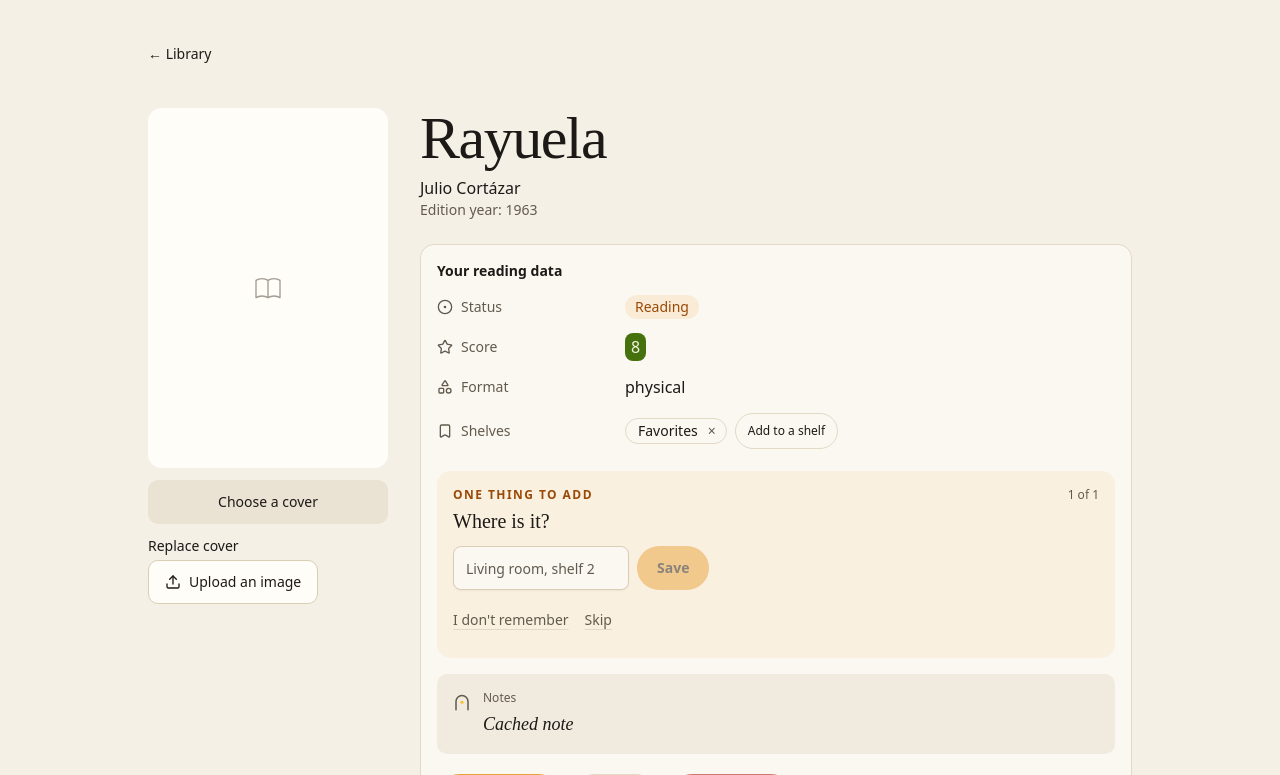
Scenario: DetailPage › explains an empty chooser instead of showing an empty grid
Expected: the heading "Rayuela" is shown, x1=420 y1=105 x2=606 y2=171
Click the button "Choose a cover": (268, 502) x1=148 y1=480 x2=388 y2=524
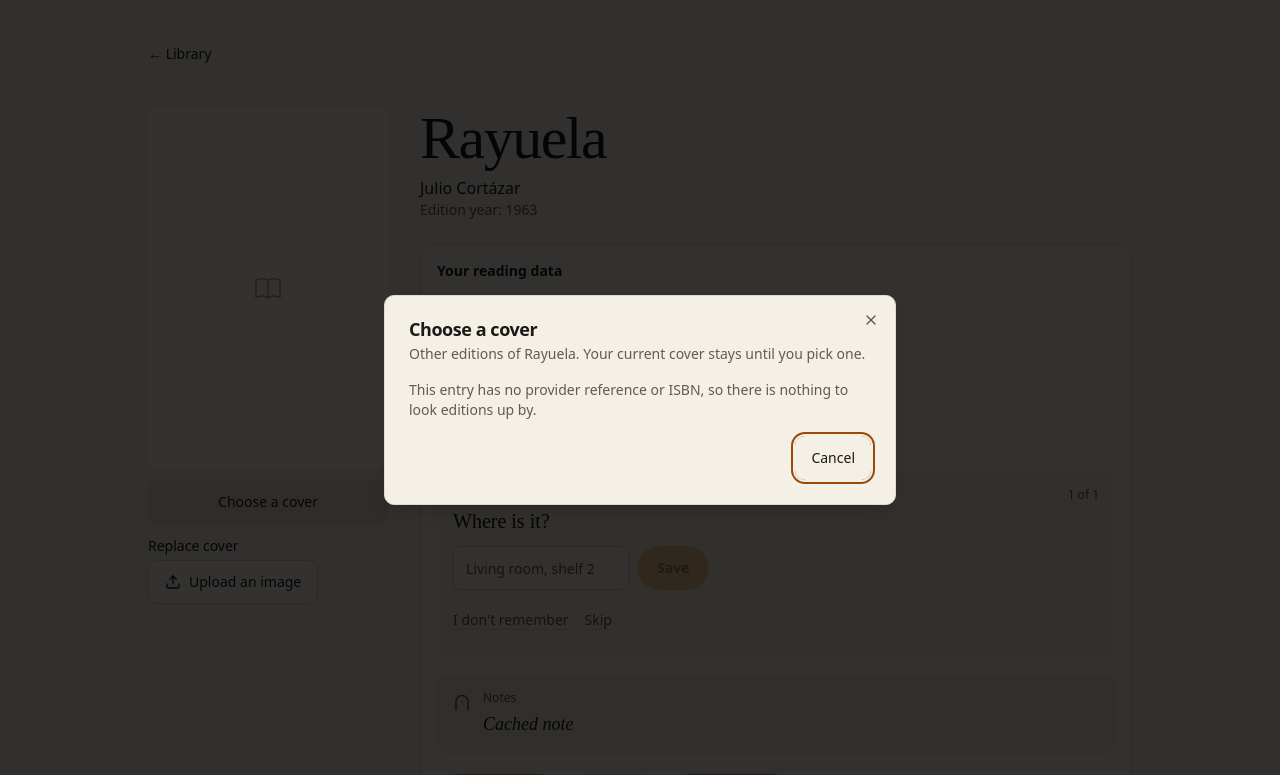
Expected: the text "nothing to look editions up by" is shown, x1=409 y1=380 x2=848 y2=419
